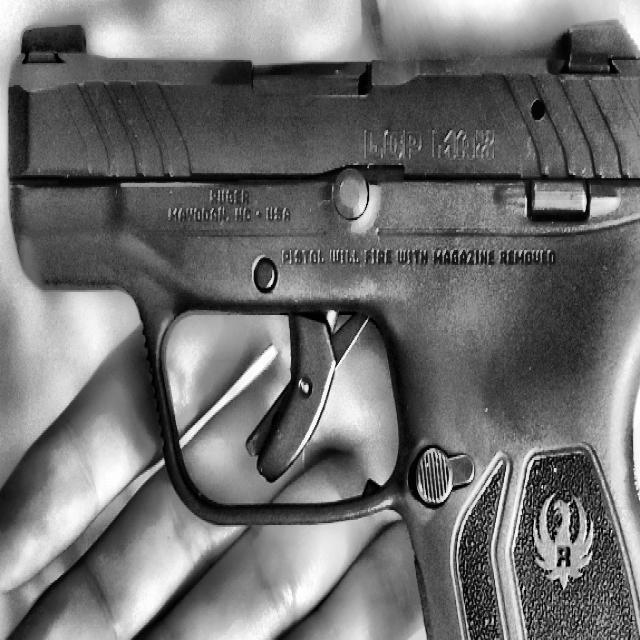Ruger: (4, 13, 640, 640)
